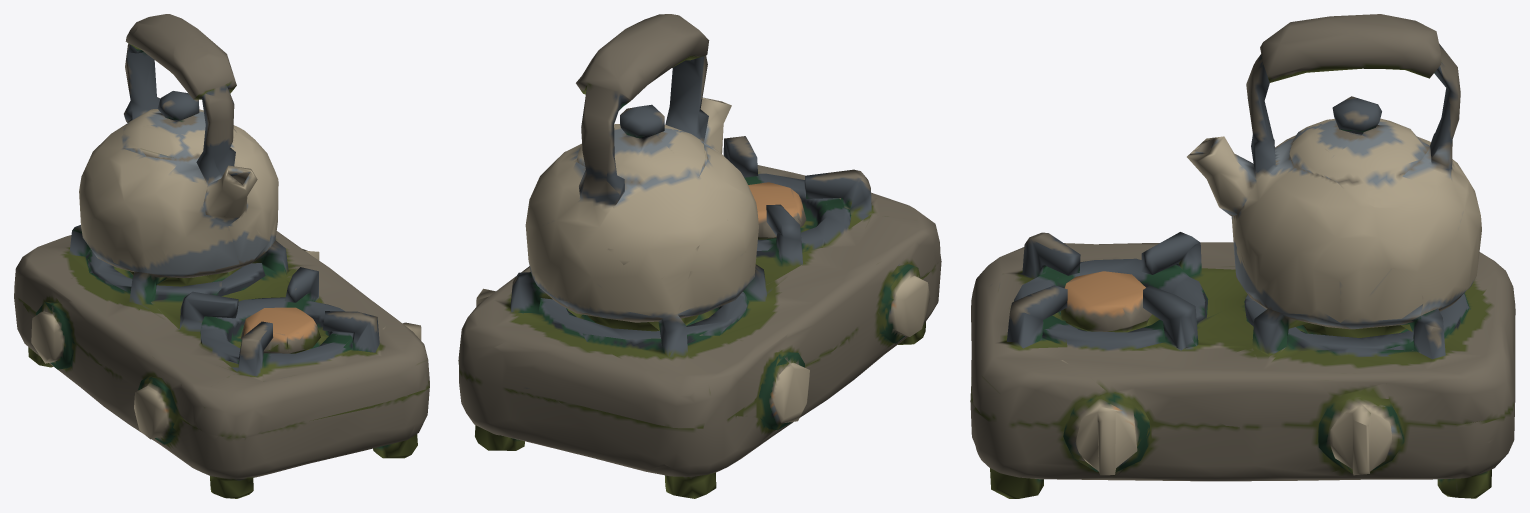
File: f-stove.glb
3 views of the same model, side by side, from view 1: azimuth 30°, elevation 25°; view 2: azimuth 150°, elevation 25°; view 3: azimuth 270°, elevation 25° (orthographic). The views are drawn at different scales.
Visible parts, largest first — view 1: tripo_node_6fb4d25e-a050-4979-bdd5-7e1f73a4e083; view 2: tripo_node_6fb4d25e-a050-4979-bdd5-7e1f73a4e083; view 3: tripo_node_6fb4d25e-a050-4979-bdd5-7e1f73a4e083.
Part boxes in pixels (left/top/right/bottom): tripo_node_6fb4d25e-a050-4979-bdd5-7e1f73a4e083: left=14, top=14, right=429, bottom=498; tripo_node_6fb4d25e-a050-4979-bdd5-7e1f73a4e083: left=458, top=14, right=941, bottom=498; tripo_node_6fb4d25e-a050-4979-bdd5-7e1f73a4e083: left=970, top=14, right=1515, bottom=498.
Bounding box in the file's own units: 0.7187 × 0.8536 × 1.
1 material, 1 textured.
